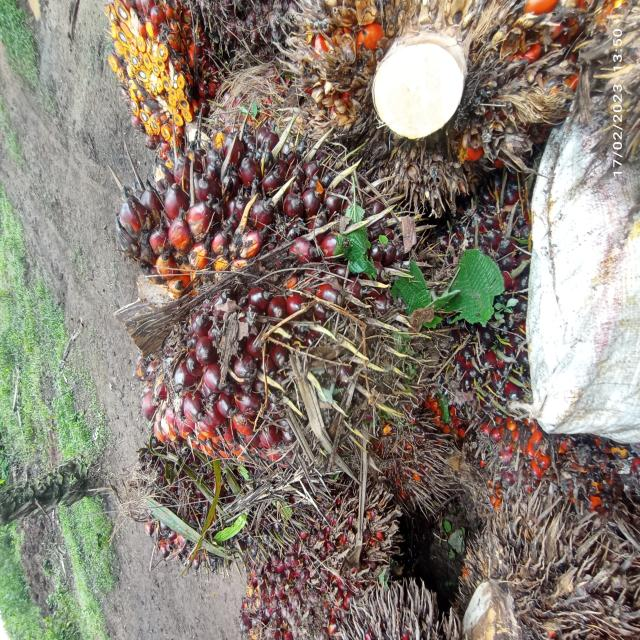fraksi 1: (87, 110, 402, 464), (418, 194, 581, 436), (206, 496, 394, 640)
fraksi 4: (451, 391, 566, 532)
